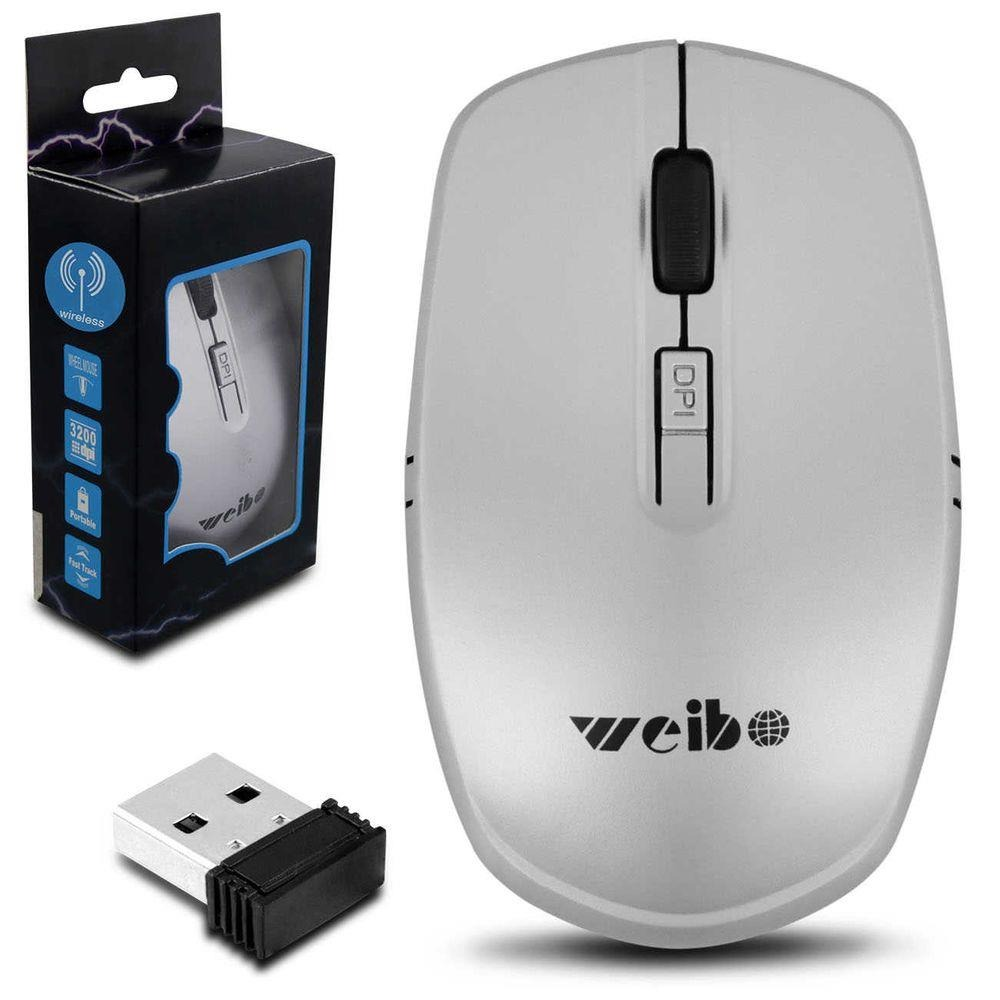mouse: (398, 35, 966, 966)
